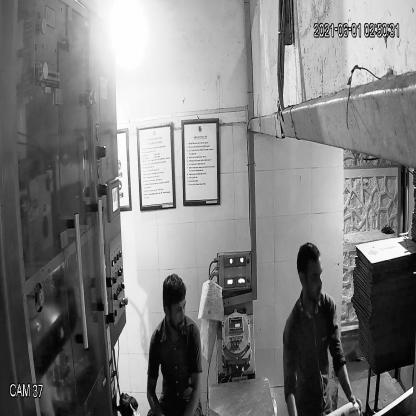no_goggles: (294, 266, 330, 288), (159, 299, 190, 320)
